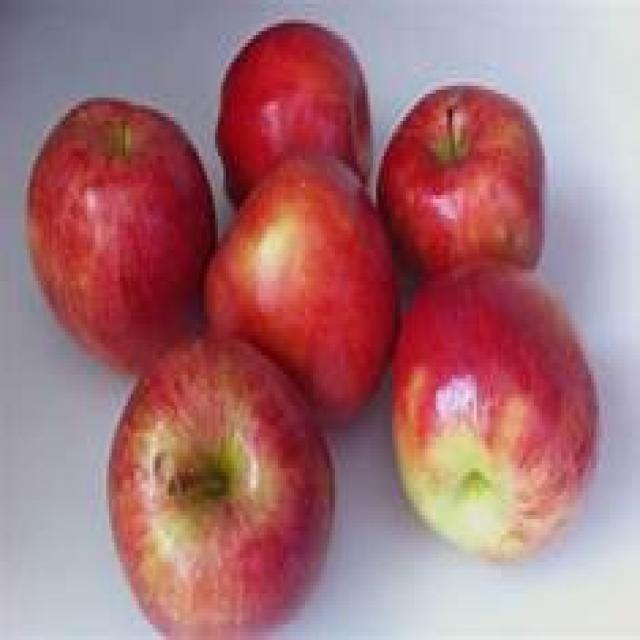apple: (110, 338, 337, 640), (390, 260, 596, 561), (23, 102, 210, 348), (382, 84, 548, 258)
